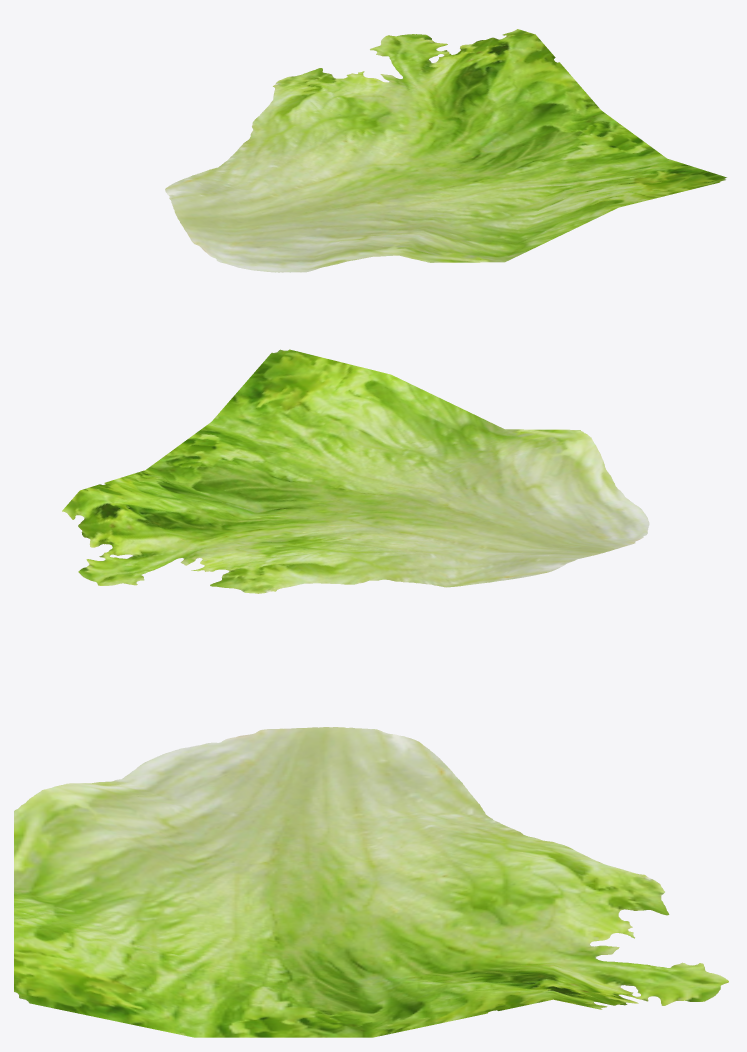
Rendered from salad.FBX.
3 views of the same model, one above another, from view 1: azimuth 30°, elevation 25°; view 2: azimuth 150°, elevation 25°; view 3: azimuth 270°, elevation 25° (orthographic). The views are drawn at different scales.
Visible parts, largest first — view 1: salad_LOD00; view 2: salad_LOD00; view 3: salad_LOD00.
Boxes of the visible parts, left/top/right/bottom form: salad_LOD00: left=165, top=29, right=726, bottom=272; salad_LOD00: left=62, top=349, right=649, bottom=593; salad_LOD00: left=14, top=727, right=728, bottom=1037.
Size of what is drawn, in the model's own units: 6.1 by 0.5188 by 6.1.
